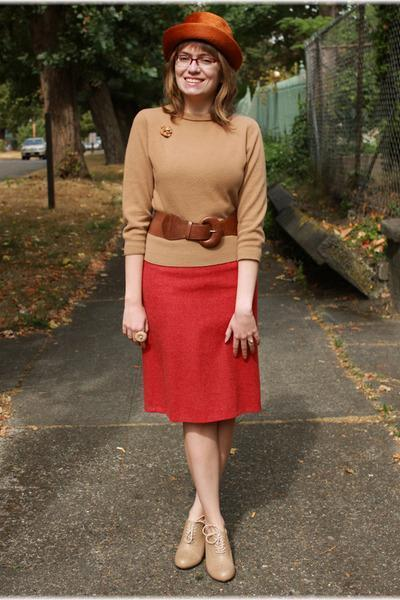hat: (146, 12, 243, 69)
jacket: (108, 107, 266, 275)
shoe: (175, 505, 233, 578)
skirt: (141, 253, 260, 421)
